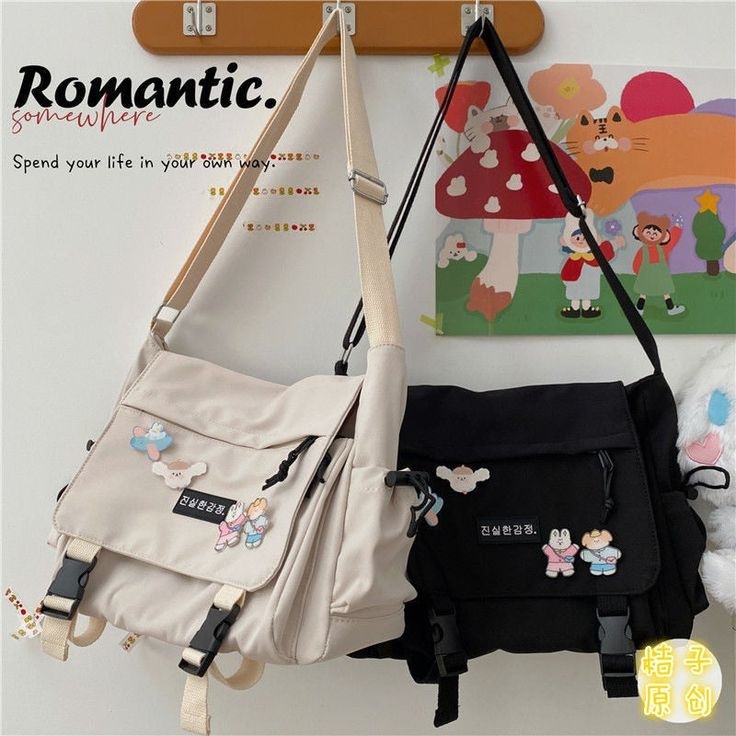nylon: (36, 18, 709, 736)
